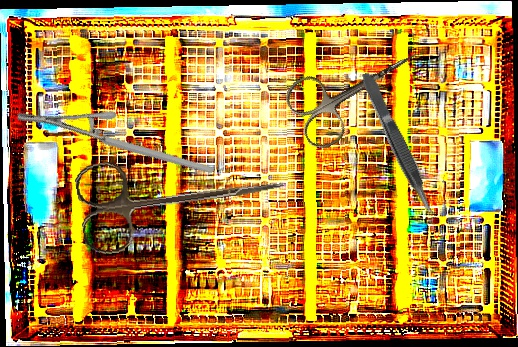Iris Scissors: (73, 135, 290, 258), (279, 23, 435, 155)
Needle Holder: (14, 58, 215, 230)
Tissue Forceps: (357, 68, 440, 221)
